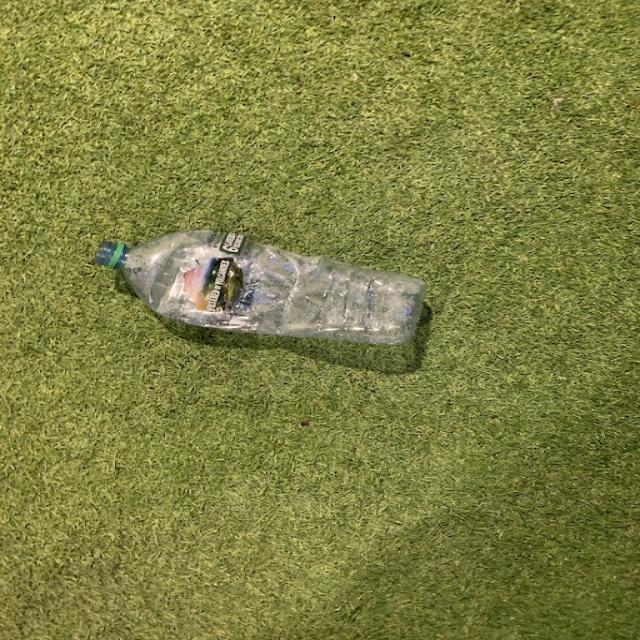litter: (96, 230, 429, 346)
